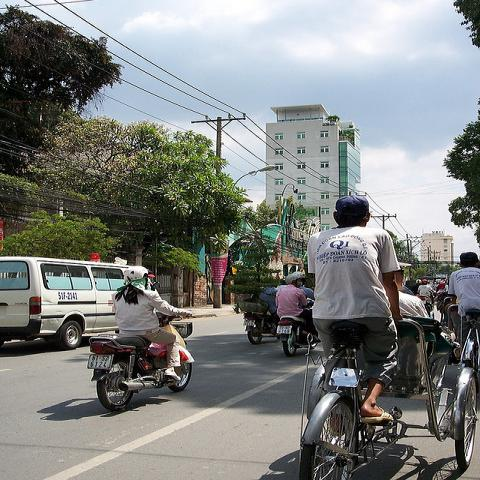motorcycle: (88, 335, 192, 410), (281, 316, 313, 359)
